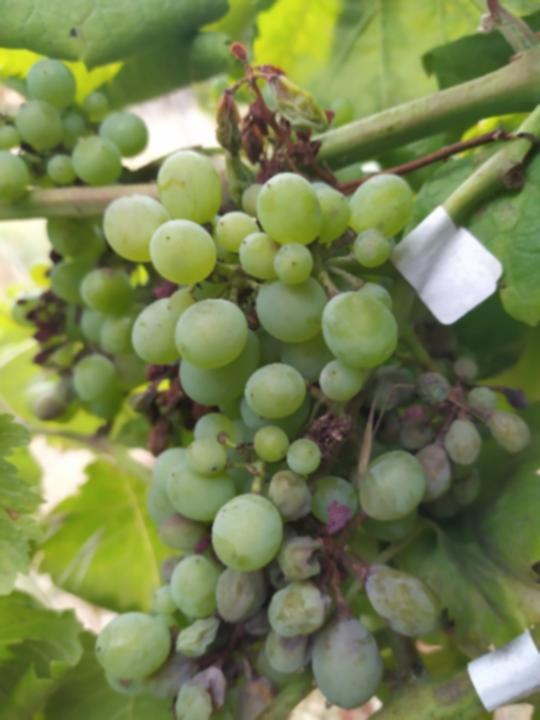grape: (87, 149, 532, 720)
